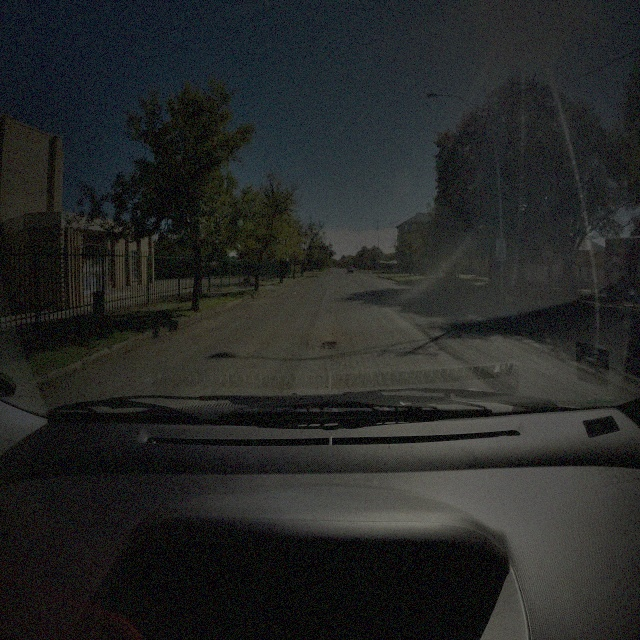pothole: (320, 339, 337, 350)
